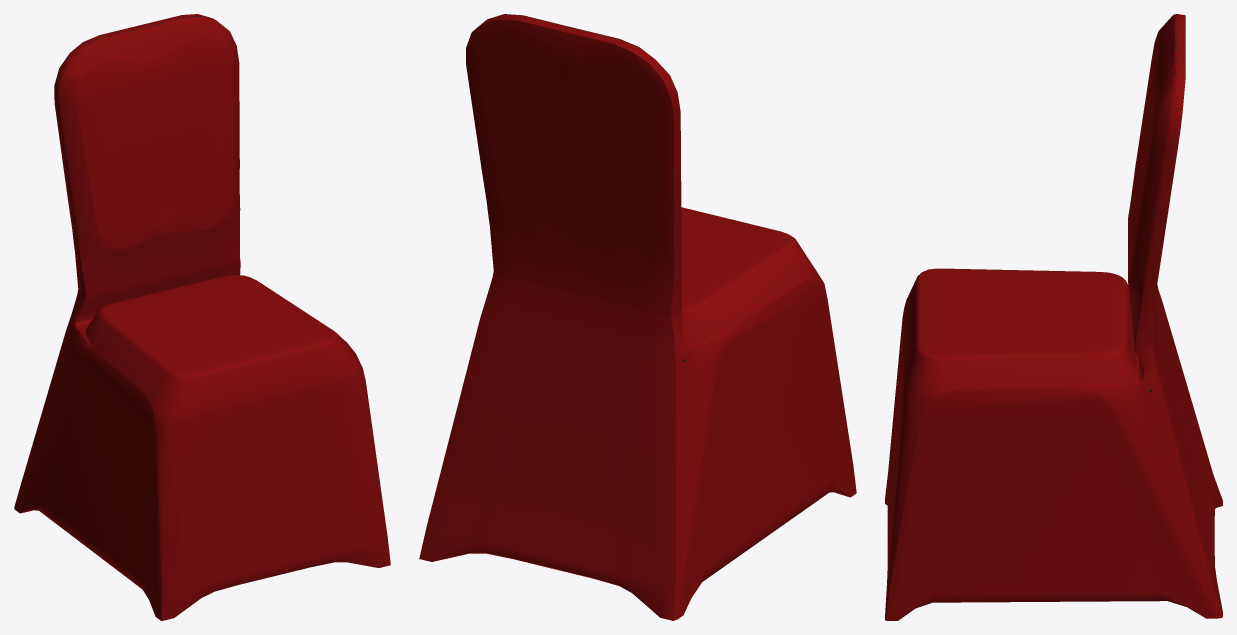
File: Chir_whiteMap.obj
3 views of the same model, side by side, from view 1: azimuth 30°, elevation 25°; view 2: azimuth 150°, elevation 25°; view 3: azimuth 270°, elevation 25° (orthographic). The views are drawn at different scales.
Visible parts, largest first — view 1: polySurface1_Chair; view 2: polySurface1_Chair; view 3: polySurface1_Chair.
Part boxes in pixels (left/top/right/bottom): polySurface1_Chair: left=14, top=14, right=390, bottom=620; polySurface1_Chair: left=419, top=14, right=856, bottom=620; polySurface1_Chair: left=885, top=14, right=1222, bottom=620.
Bounding box in the file's own units: 20.85 × 40.65 × 24.05.
